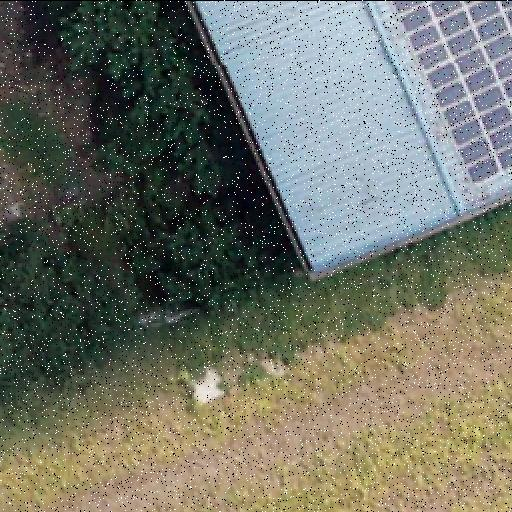solar-panel: (392, 0, 512, 186)
